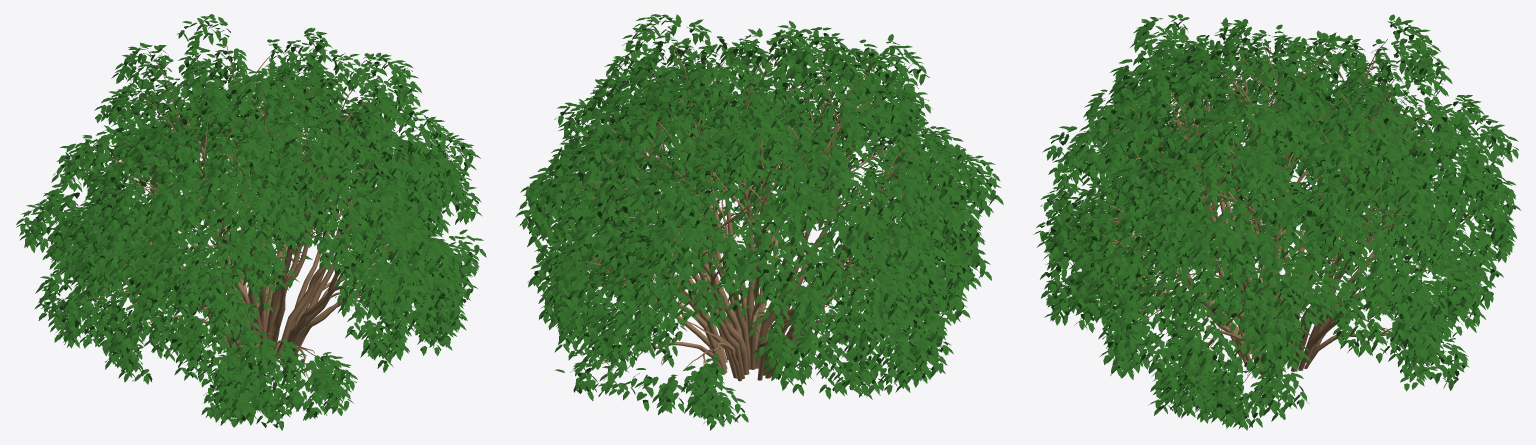
File: bush (1).glb
3 renders of one model, left to right at view 1: azimuth 30°, elevation 25°; view 2: azimuth 150°, elevation 25°; view 3: azimuth 270°, elevation 25°, orthographic. The views are drawn at different scales.
Parts seen in each view (by area): view 1: Open3dModel.com_Model (1); view 2: Open3dModel.com_Model (1); view 3: Open3dModel.com_Model (1).
Boxes of the visible parts, <box> form: Open3dModel.com_Model (1): <box>16,14,486,430</box>; Open3dModel.com_Model (1): <box>515,14,1003,430</box>; Open3dModel.com_Model (1): <box>1033,14,1520,430</box>.
Bounding box in the file's own units: 153 × 113 × 152.
